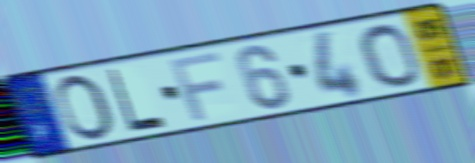4: (310, 28, 365, 100)
6: (235, 42, 292, 112)
F: (166, 50, 224, 123)
L: (105, 65, 169, 134)
O: (53, 73, 118, 145), (356, 22, 423, 89)
